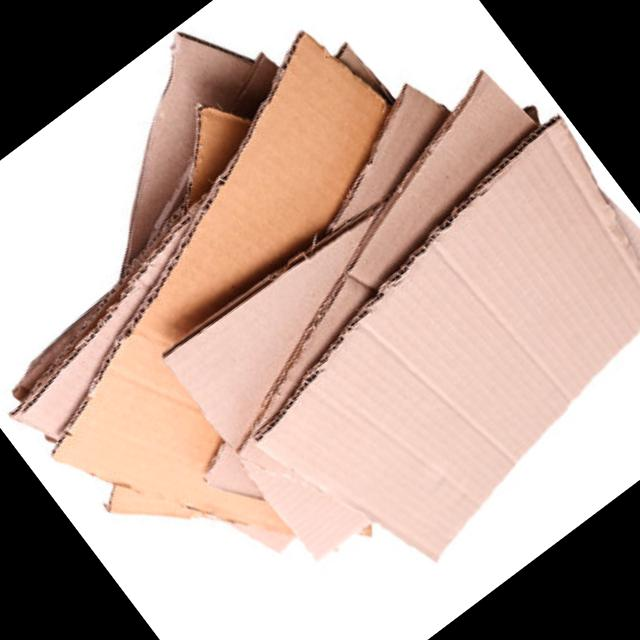Kardus: (0, 0, 640, 640), (138, 45, 640, 623)
